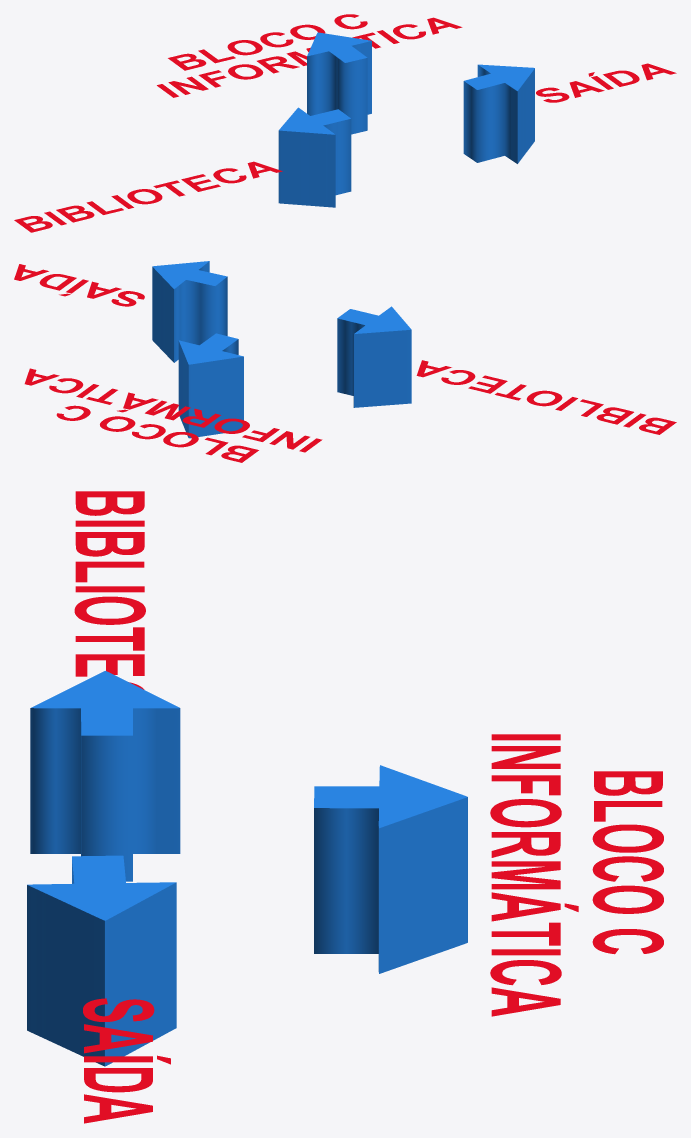
Rendered from Seta bloco C.glb.
3 renders of one model, top to bottom at view 1: azimuth 30°, elevation 25°; view 2: azimuth 150°, elevation 25°; view 3: azimuth 270°, elevation 25°, orthographic. The views are drawn at different scales.
Visible parts, largest first — view 1: Curve.002, Curve.003, Curve.004, Text.003, Text.002, Text, Text.001; view 2: Curve.002, Curve.003, Curve.004, Text.002, Text.003, Text, Text.001; view 3: Curve.004, Curve.002, Curve.003, Text.002, Text.003, Text, Text.001.
Boxes of the visible parts, x1=… form: Curve.002: x1=278, y1=107, x2=351, y2=207; Curve.003: x1=463, y1=64, x2=534, y2=163; Curve.004: x1=307, y1=32, x2=371, y2=134; Text.003: x1=14, y1=161, x2=282, y2=232; Text.002: x1=157, y1=17, x2=462, y2=97; Text: x1=168, y1=14, x2=367, y2=70; Text.001: x1=536, y1=63, x2=676, y2=102; Curve.002: x1=337, y1=306, x2=411, y2=407; Curve.003: x1=152, y1=261, x2=227, y2=362; Curve.004: x1=178, y1=333, x2=243, y2=438; Text.002: x1=24, y1=368, x2=322, y2=452; Text.003: x1=416, y1=360, x2=676, y2=434; Text: x1=56, y1=405, x2=258, y2=462; Text.001: x1=14, y1=264, x2=144, y2=306; Curve.004: x1=314, y1=765, x2=467, y2=973; Curve.002: x1=30, y1=671, x2=180, y2=881; Curve.003: x1=27, y1=855, x2=176, y2=1066; Text.002: x1=490, y1=734, x2=578, y2=1016; Text.003: x1=74, y1=491, x2=145, y2=689; Text: x1=592, y1=771, x2=663, y2=954; Text.001: x1=83, y1=998, x2=170, y2=1123.
Size of the model in its own units: 3.25 by 0.35 by 1.38.
